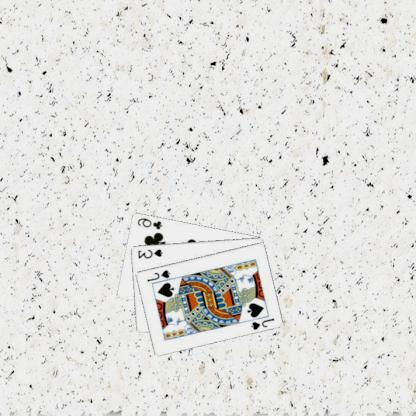3S: (137, 246, 165, 259)
6C: (136, 215, 165, 231)
JS: (146, 267, 173, 283), (250, 315, 277, 331)
